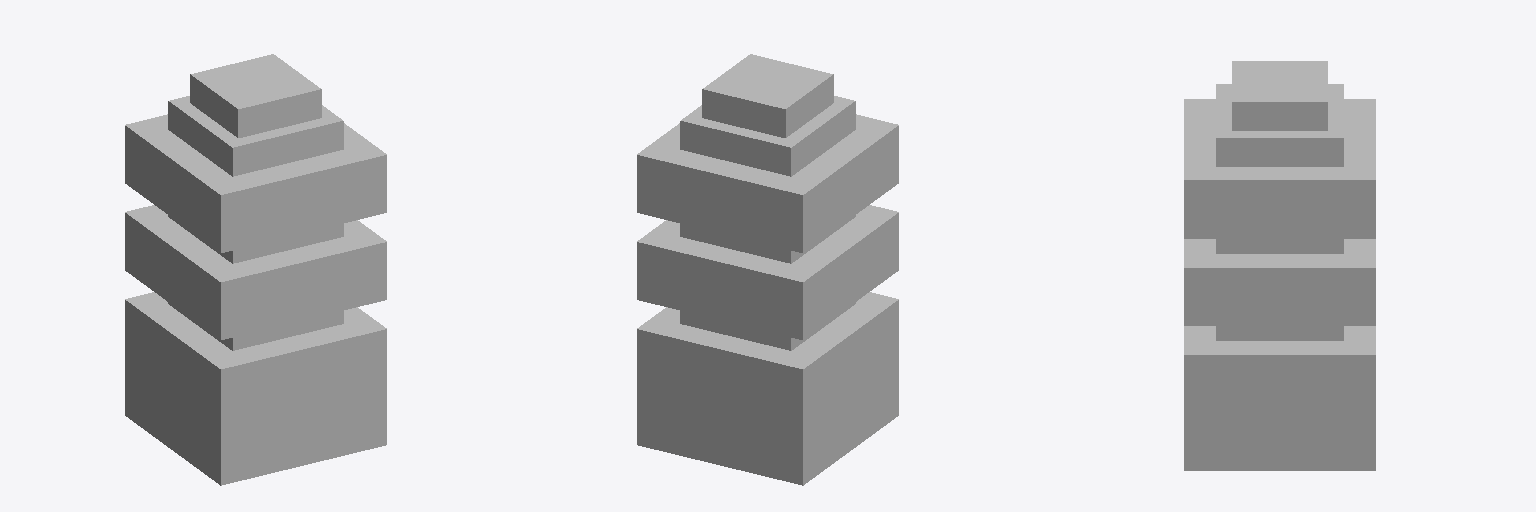
File: connectorHV.obj
3 views of the same model, side by side, from view 1: azimuth 30°, elevation 25°; view 2: azimuth 150°, elevation 25°; view 3: azimuth 270°, elevation 25° (orthographic).
Parts seen in each view (by area): view 1: connectorHV; view 2: connectorHV; view 3: connectorHV.
Boxes of the visible parts, <box> form: connectorHV: <box>125,54,386,485</box>; connectorHV: <box>637,54,898,485</box>; connectorHV: <box>1184,61,1375,470</box>.
Bounding box in the file's own units: 0.375 × 0.75 × 0.375.